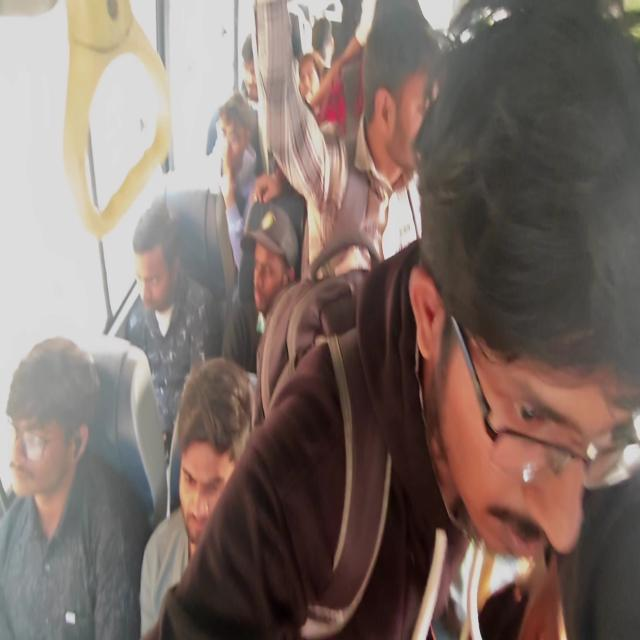person: (444, 34, 640, 540), (6, 360, 111, 534), (175, 371, 255, 535), (364, 29, 436, 178), (133, 220, 195, 318), (252, 212, 296, 327), (220, 100, 260, 184), (237, 33, 268, 95), (300, 57, 328, 106), (310, 22, 338, 60)
